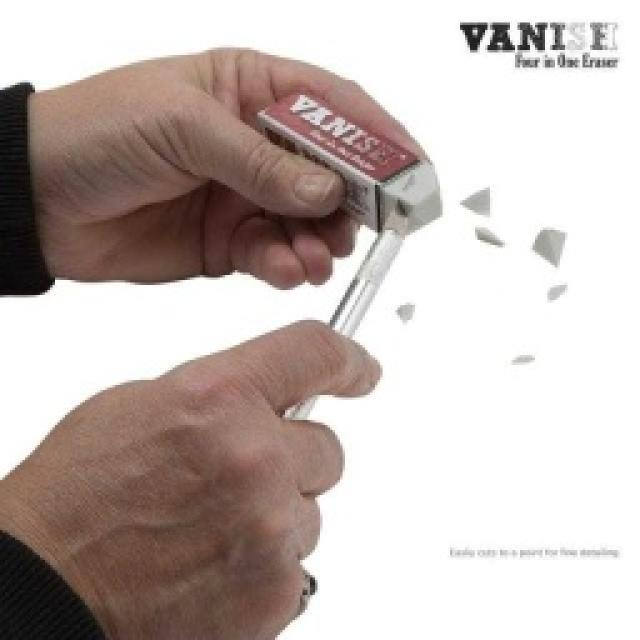Silgi: (258, 90, 445, 233)
